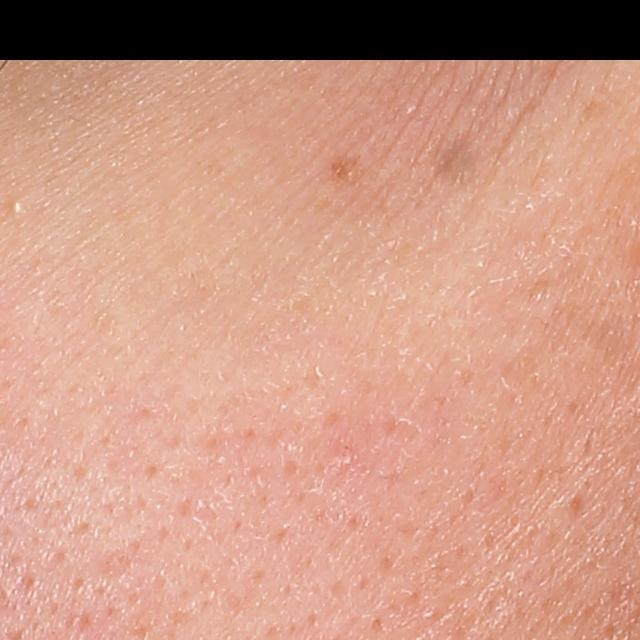comedo: (5, 196, 25, 215)
